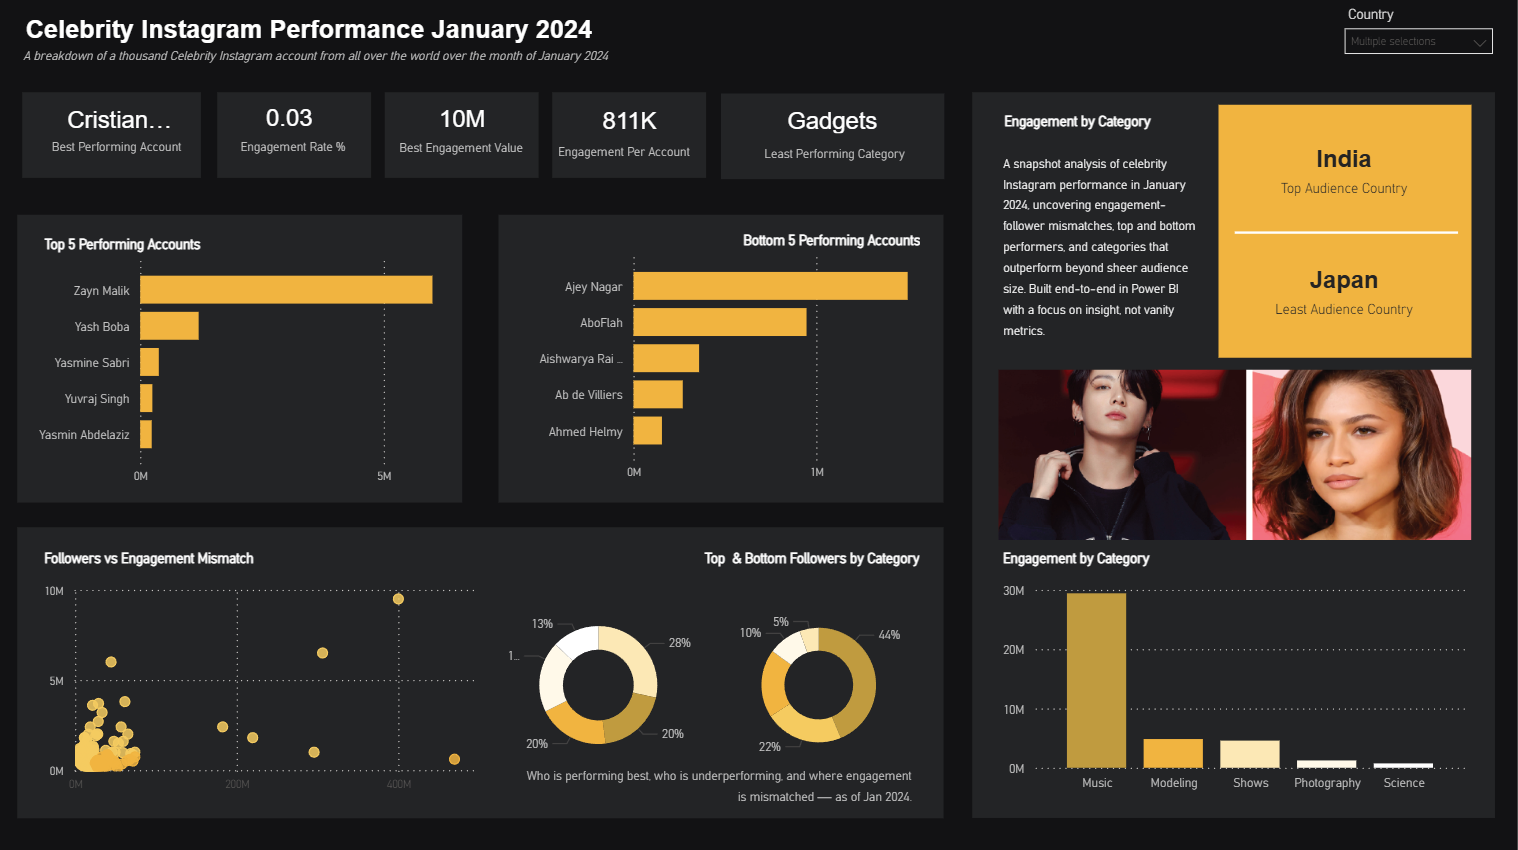

The page's visual inventory and layout, read from the dashboard file:
{"tool":"powerbi","page":{"name":"Celebrity Dashboard Main","canvas":[1280,720],"ordinal":0},"visuals":[{"type":"image","box":[0,0,1280,720.7],"z":0},{"type":"slicer","fields":{"Values":["Instagram-Data.AudienceCountry"]},"box":[1123.9,20.4,145.3,37.2],"z":1000},{"type":"shape","box":[22.3,80.7,150.3,72.3],"z":2000},{"type":"card","fields":{"Values":["Instagram-Data.Best Performing Account"]},"box":[54,80.5,100.9,48],"z":3000},{"type":"textbox","box":[19.5,11.1,513.4,37.6],"z":4000},{"type":"textbox","box":[41.7,115.5,125.2,37.6],"z":5000},{"type":"shape","box":[186.4,80.7,129.4,72.3],"z":6000},{"type":"textbox","box":[200.3,115.5,104.3,29.2],"z":7000},{"type":"card","fields":{"Values":["Instagram-Data.Engagement Rate %"]},"box":[215.7,86.3,62.6,34.8],"z":8000},{"type":"shape","box":[327,80.7,129.4,72.3],"z":9000},{"type":"textbox","box":[1132.3,0,50.4,30],"z":10000},{"type":"textbox","box":[333.9,114.1,115.5,27.8],"z":11000},{"type":"card","fields":{"Values":["Instagram-Data.Best Engagement Value"]},"box":[349.2,80.7,86.3,47.3],"z":12000},{"type":"shape","box":[467.5,80.7,129.4,72.3],"z":13000},{"type":"card","fields":{"Values":["Instagram-Data.Avg Engagement per Account"]},"box":[473,86.3,119.7,39],"z":14000},{"type":"textbox","box":[467.5,118.3,129.4,25],"z":15000},{"type":"shape","box":[609.4,82.1,187.8,72.3],"z":16000},{"type":"card","fields":{"Values":["Instagram-Data.Least Performing Category"]},"box":[634.4,91.8,139.1,29.2],"z":17000},{"type":"textbox","box":[641.4,116.9,132.2,34.8],"z":18000},{"type":"textbox","box":[18.1,34.8,616.3,57],"z":19000},{"type":"shape","box":[18.1,183.7,374.3,242.1],"z":20000},{"type":"shape","box":[423,183.7,374.3,242.1],"z":21000},{"type":"clusteredBarChart","title":"Top 5 Performing Accounts","fields":{"Category":["Instagram-Data.Title"],"Y":["Instagram-Data.Engagement Avg (Measure)"]},"box":[30.6,210.1,347.8,207.3],"z":22000},{"type":"clusteredBarChart","title":"Bottom 5 Performing Accounts","fields":{"Category":["Instagram-Data.Title"],"Y":["Instagram-Data.Engagement Avg (Measure)"]},"box":[437.7,207.6,343.7,207.3],"z":23000},{"type":"textbox","box":[36.2,193.7,254.6,27.8],"z":24000},{"type":"textbox","box":[432.7,190.6,349.2,27.8],"z":25000},{"type":"shape","box":[820.9,81,439.7,610.5],"z":26000},{"type":"shape","box":[18.1,446.6,779.1,244.9],"z":27000},{"type":"scatterChart","title":"Followers vs Engagement Mismatch","fields":{"X":["Sum(Instagram-Data.Followers)"],"Y":["Instagram-Data.Engagement Avg (Measure)"],"Category":["Instagram-Data.Title"],"Series":["Instagram-Data.Underperforming High Followers"]},"box":[36.2,485.6,386.8,190.6],"z":28000},{"type":"textbox","box":[36.2,457.7,254.6,27.8],"z":29000},{"type":"textbox","box":[542.6,457.7,239.3,27.8],"z":30000},{"type":"donutChart","title":"Top 5 Followers by Category","fields":{"Category":["Instagram-Data.Category"],"Y":["Sum(Instagram-Data.Followers)"]},"box":[610.8,500.9,162.8,158.6],"z":31000},{"type":"donutChart","title":"Bottom 5 Followers by Category","fields":{"Category":["Instagram-Data.Category"],"Y":["Sum(Instagram-Data.Followers)"]},"box":[420.2,500.9,172.5,158.6],"z":32000},{"type":"shape","box":[1028.2,91.8,212.9,212.9],"z":33000},{"type":"card","fields":{"Values":["Instagram-Data.Top Audience Country"]},"box":[1039.3,103,190.6,83.5],"z":34000},{"type":"card","fields":{"Values":["Instagram-Data.Least Audience Country"]},"box":[1039.3,204.5,190.6,83.5],"z":35000},{"type":"clusteredColumnChart","title":"Engagement by Category","fields":{"Category":["Instagram-Data.Category"],"Y":["Instagram-Data.Engagement Avg (Measure)"]},"box":[841.7,485.6,399.3,190.6],"z":36000},{"type":"textbox","box":[841.7,457.7,254.6,27.8],"z":37000},{"type":"image","box":[843.1,314.4,397.9,143.3],"z":38000},{"type":"textbox","box":[843.1,90.4,254.6,27.8],"z":39000},{"type":"textbox","box":[841.7,125.2,173.9,186.4],"z":40000},{"type":"shape","box":[1042.1,51.5,187.8,295],"z":41000},{"type":"textbox","box":[438.3,640,336.7,51.5],"z":42000}]}

Visuals, with their boxes in screenshot pixels (x1, y1, x2, y2), scaled from the page's 1280x720 canvas onto the 1518x850 screenshot:
image: [left=0, top=0, right=1517, bottom=849]
slicer - Instagram-Data.AudienceCountry: [left=1333, top=24, right=1505, bottom=68]
shape: [left=26, top=95, right=205, bottom=181]
card - Instagram-Data.Best Performing Account: [left=64, top=95, right=184, bottom=152]
textbox: [left=23, top=13, right=632, bottom=57]
textbox: [left=49, top=136, right=198, bottom=181]
shape: [left=221, top=95, right=375, bottom=181]
textbox: [left=238, top=136, right=361, bottom=171]
card - Instagram-Data.Engagement Rate %: [left=256, top=102, right=330, bottom=143]
shape: [left=388, top=95, right=541, bottom=181]
textbox: [left=1343, top=0, right=1403, bottom=35]
textbox: [left=396, top=135, right=533, bottom=168]
card - Instagram-Data.Best Engagement Value: [left=414, top=95, right=516, bottom=151]
shape: [left=554, top=95, right=708, bottom=181]
card - Instagram-Data.Avg Engagement per Account: [left=561, top=102, right=703, bottom=148]
textbox: [left=554, top=140, right=708, bottom=169]
shape: [left=723, top=97, right=945, bottom=182]
card - Instagram-Data.Least Performing Category: [left=752, top=108, right=917, bottom=143]
textbox: [left=761, top=138, right=917, bottom=179]
textbox: [left=21, top=41, right=752, bottom=108]
shape: [left=21, top=217, right=465, bottom=503]
shape: [left=502, top=217, right=946, bottom=503]
"Top 5 Performing Accounts" clusteredBarChart: [left=36, top=248, right=449, bottom=493]
"Bottom 5 Performing Accounts" clusteredBarChart: [left=519, top=245, right=927, bottom=490]
textbox: [left=43, top=229, right=345, bottom=261]
textbox: [left=513, top=225, right=927, bottom=258]
shape: [left=974, top=96, right=1495, bottom=816]
shape: [left=21, top=527, right=945, bottom=816]
"Followers vs Engagement Mismatch" scatterChart: [left=43, top=573, right=502, bottom=798]
textbox: [left=43, top=540, right=345, bottom=573]
textbox: [left=643, top=540, right=927, bottom=573]
"Top 5 Followers by Category" donutChart: [left=724, top=591, right=917, bottom=779]
"Bottom 5 Followers by Category" donutChart: [left=498, top=591, right=703, bottom=779]
shape: [left=1219, top=108, right=1472, bottom=360]
card - Instagram-Data.Top Audience Country: [left=1233, top=122, right=1459, bottom=220]
card - Instagram-Data.Least Audience Country: [left=1233, top=241, right=1459, bottom=340]
"Engagement by Category" clusteredColumnChart: [left=998, top=573, right=1472, bottom=798]
textbox: [left=998, top=540, right=1300, bottom=573]
image: [left=1000, top=371, right=1472, bottom=540]
textbox: [left=1000, top=107, right=1302, bottom=140]
textbox: [left=998, top=148, right=1204, bottom=368]
shape: [left=1236, top=61, right=1459, bottom=409]
textbox: [left=520, top=756, right=919, bottom=816]
